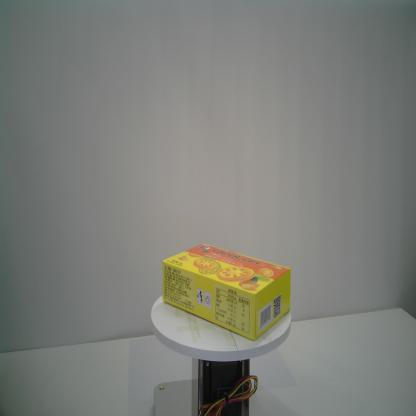Dessert: (161, 242, 292, 343)
